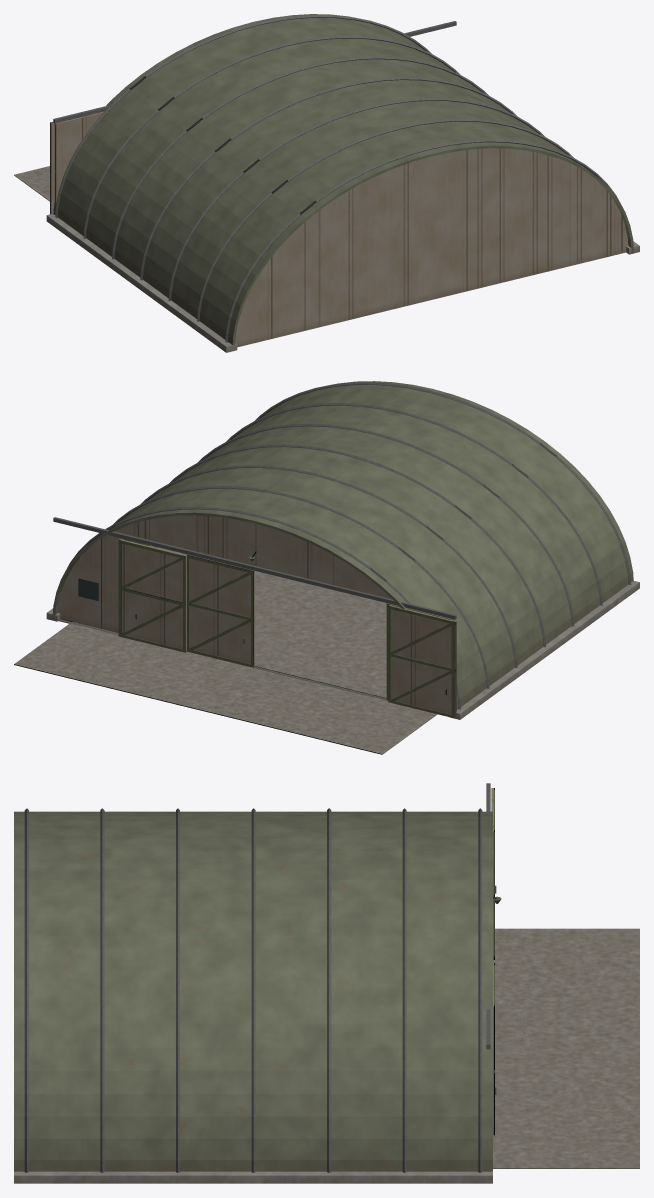
The model's file is hangar.glb.
3 renders of one model, top to bottom at view 1: azimuth 30°, elevation 25°; view 2: azimuth 150°, elevation 25°; view 3: azimuth 270°, elevation 25°, orthographic. The views are drawn at different scales.
Parts seen in each view (by area): view 1: roof, back_wall, frame, door_leaf_2, door_rail; view 2: roof, frame, front_wall, door_leaf_4, door_leaf_1, door_leaf_3, door_rail; view 3: roof, frame.
Part boxes in pixels (x1,y1,x2,y2): roof: [53, 14, 633, 345]; back_wall: [235, 148, 628, 347]; frame: [14, 15, 639, 352]; door_leaf_2: [55, 112, 103, 202]; door_rail: [53, 21, 456, 123]; roof: [52, 381, 633, 709]; frame: [14, 382, 639, 754]; front_wall: [58, 515, 391, 632]; door_leaf_4: [118, 539, 186, 652]; door_leaf_1: [388, 605, 456, 718]; door_leaf_3: [187, 554, 254, 667]; door_rail: [53, 517, 456, 700]; roof: [14, 811, 492, 1171]; frame: [14, 808, 639, 1183].
Size of the model in its own units: 24.7 by 8.65 by 24.3.
Materials: 1 (1 with a texture image).
